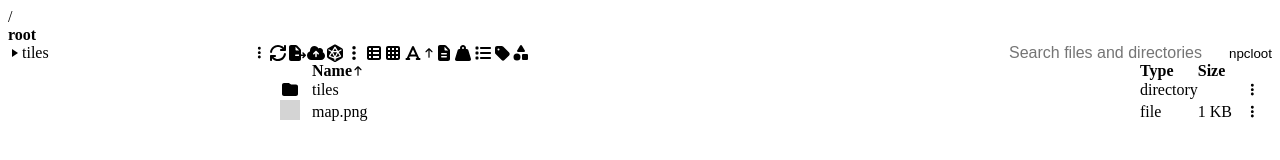
Test case: FileBrowser › navigates to a search result's containing directory and exits search mode
Type "forest" into the search field at (1119, 53), box left=1009, top=44, right=1229, bottom=62
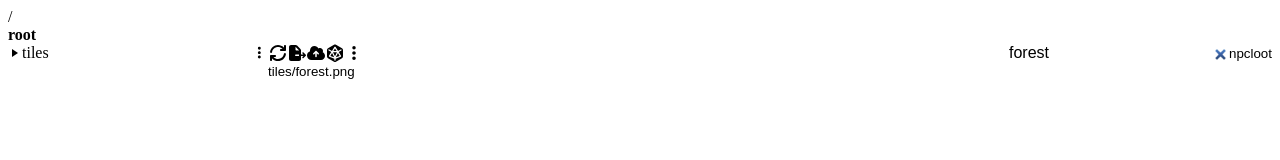
Click the button "tiles/forest.png" at (311, 72), box left=268, top=64, right=355, bottom=79
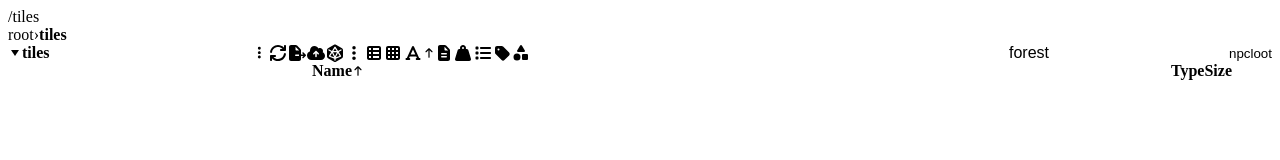
Check: the button "tiles/forest.png" is gone
